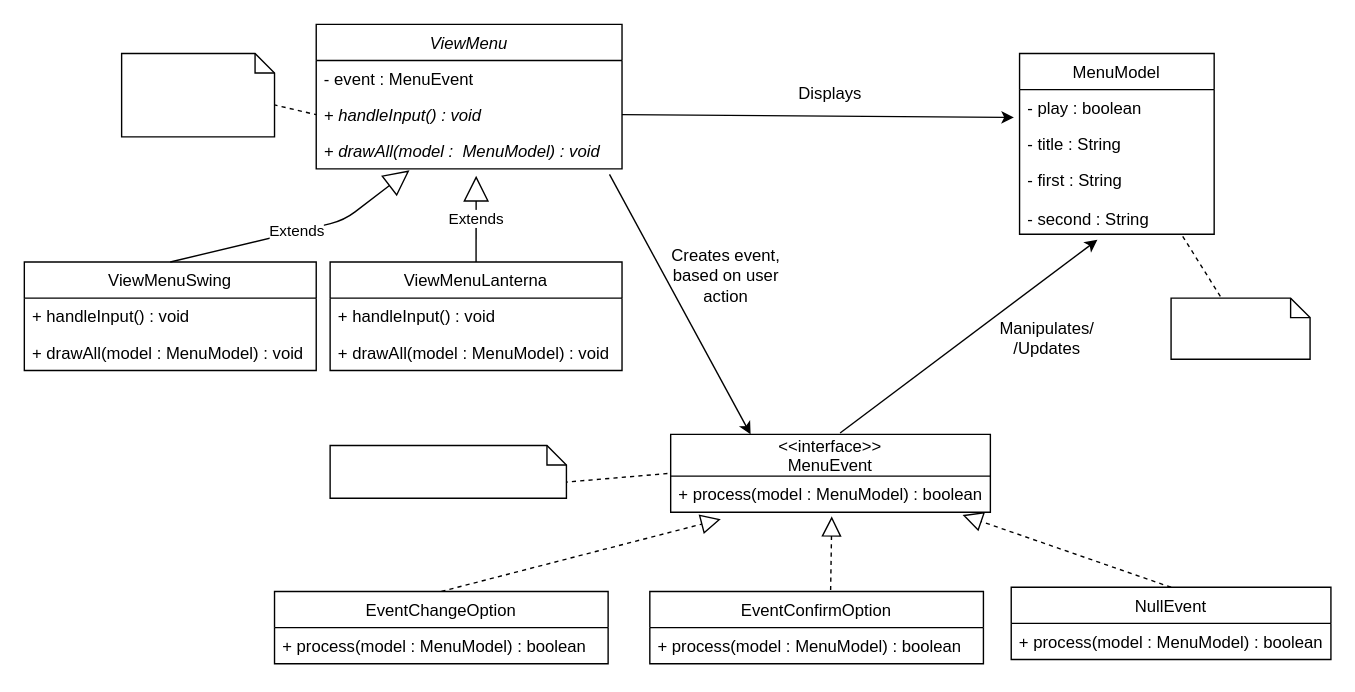
The diagram is 1355 pixels wide and 692 high, and some of its shapes have lost their labels. The shapes that lost their labels are listed below. From the top down, each one's centre as x and y in pixels, then its label:
the point at 197,94: View component; reads user input and creates event; draws model
the point at 1240,328: Model; only represents the data
the point at 447,471: Changes the model accordingly, among other tasks
